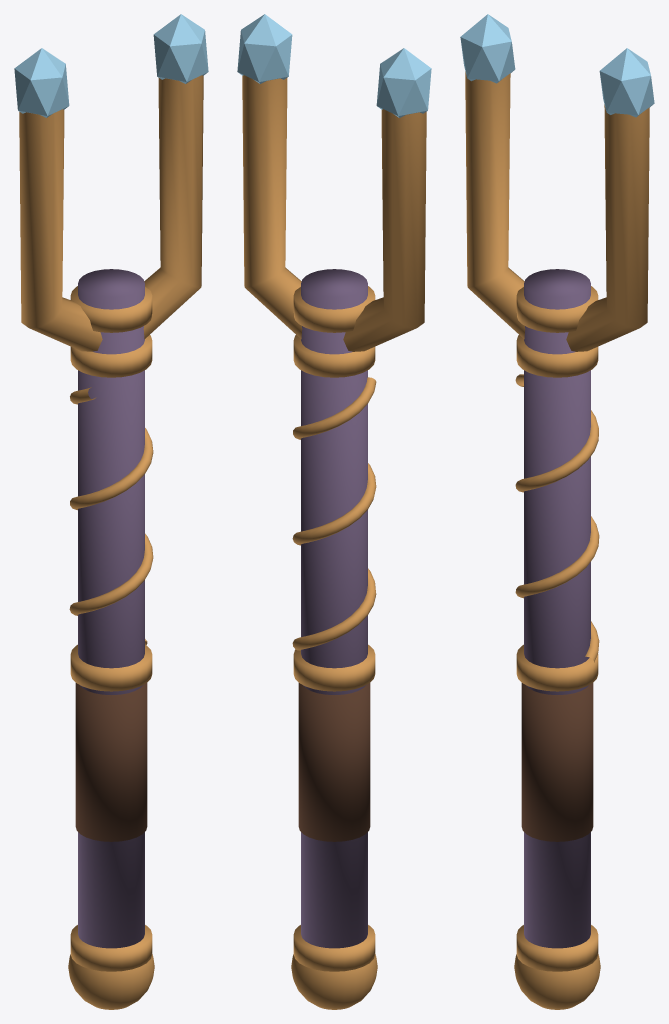
The model's file is resonant.glb.
3 renders of one model, left to right at view 1: azimuth 30°, elevation 25°; view 2: azimuth 150°, elevation 25°; view 3: azimuth 330°, elevation 25°, orthographic.
Visible parts, largest first — view 1: Arme_resonant; view 2: Arme_resonant; view 3: Arme_resonant.
Part boxes in pixels (x1,y1,x2,y2): Arme_resonant: [14, 14, 208, 1009]; Arme_resonant: [237, 14, 431, 1009]; Arme_resonant: [460, 14, 654, 1009].
Bounding box in the file's own units: 0.1747 × 0.87 × 0.07.
